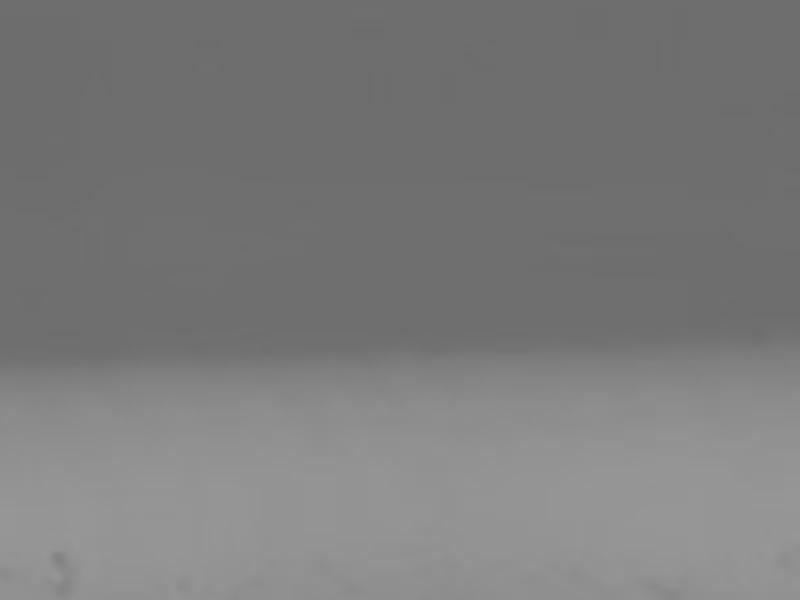defect: (42, 576, 74, 600), (49, 542, 76, 569)
